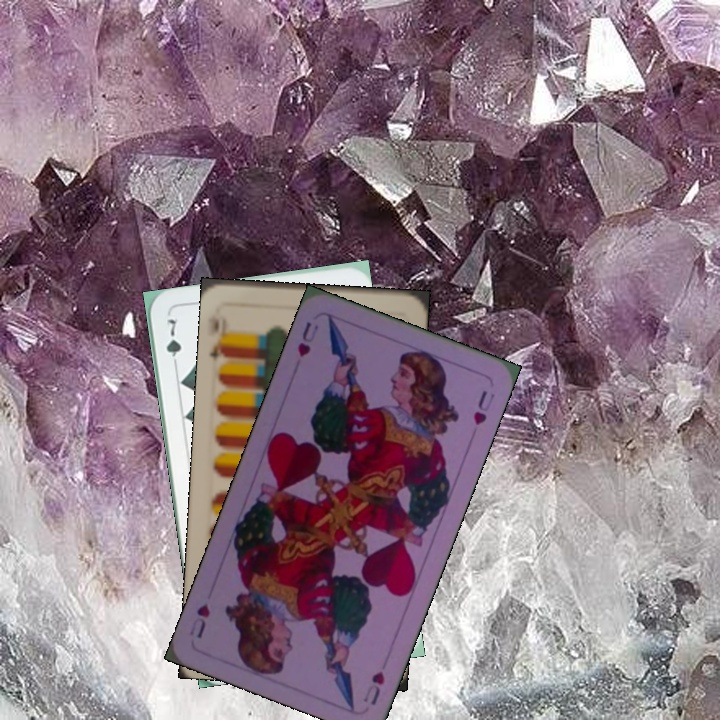E10: (205, 304, 233, 363)
G7: (162, 314, 184, 372)
HU: (293, 317, 322, 360), (359, 667, 387, 708)
